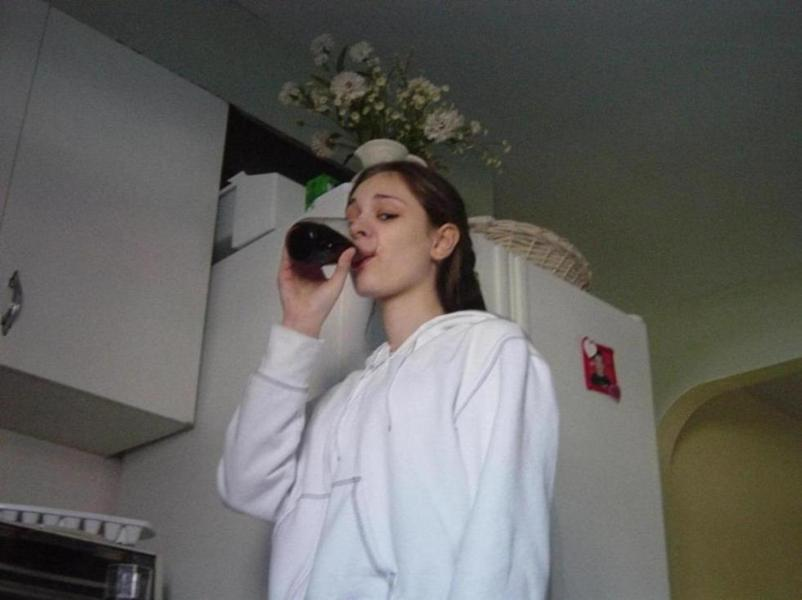person: (216, 159, 561, 600)
